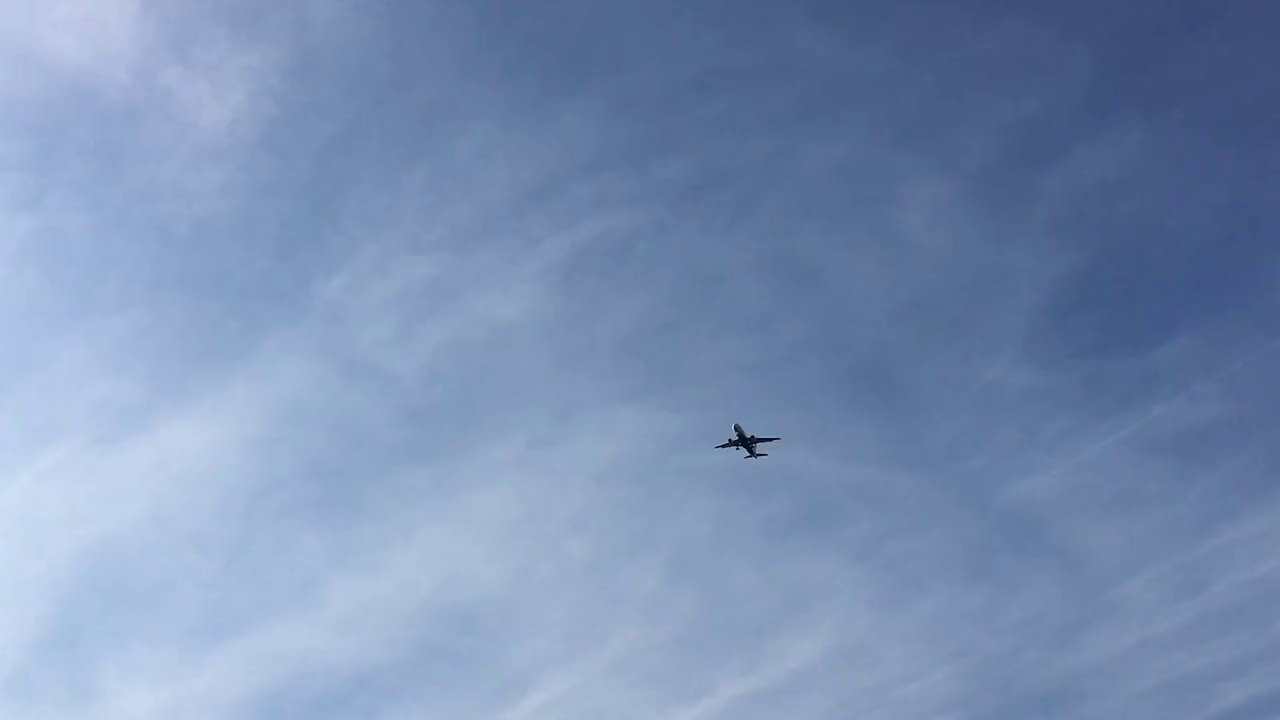plane: (713, 423, 781, 460)
